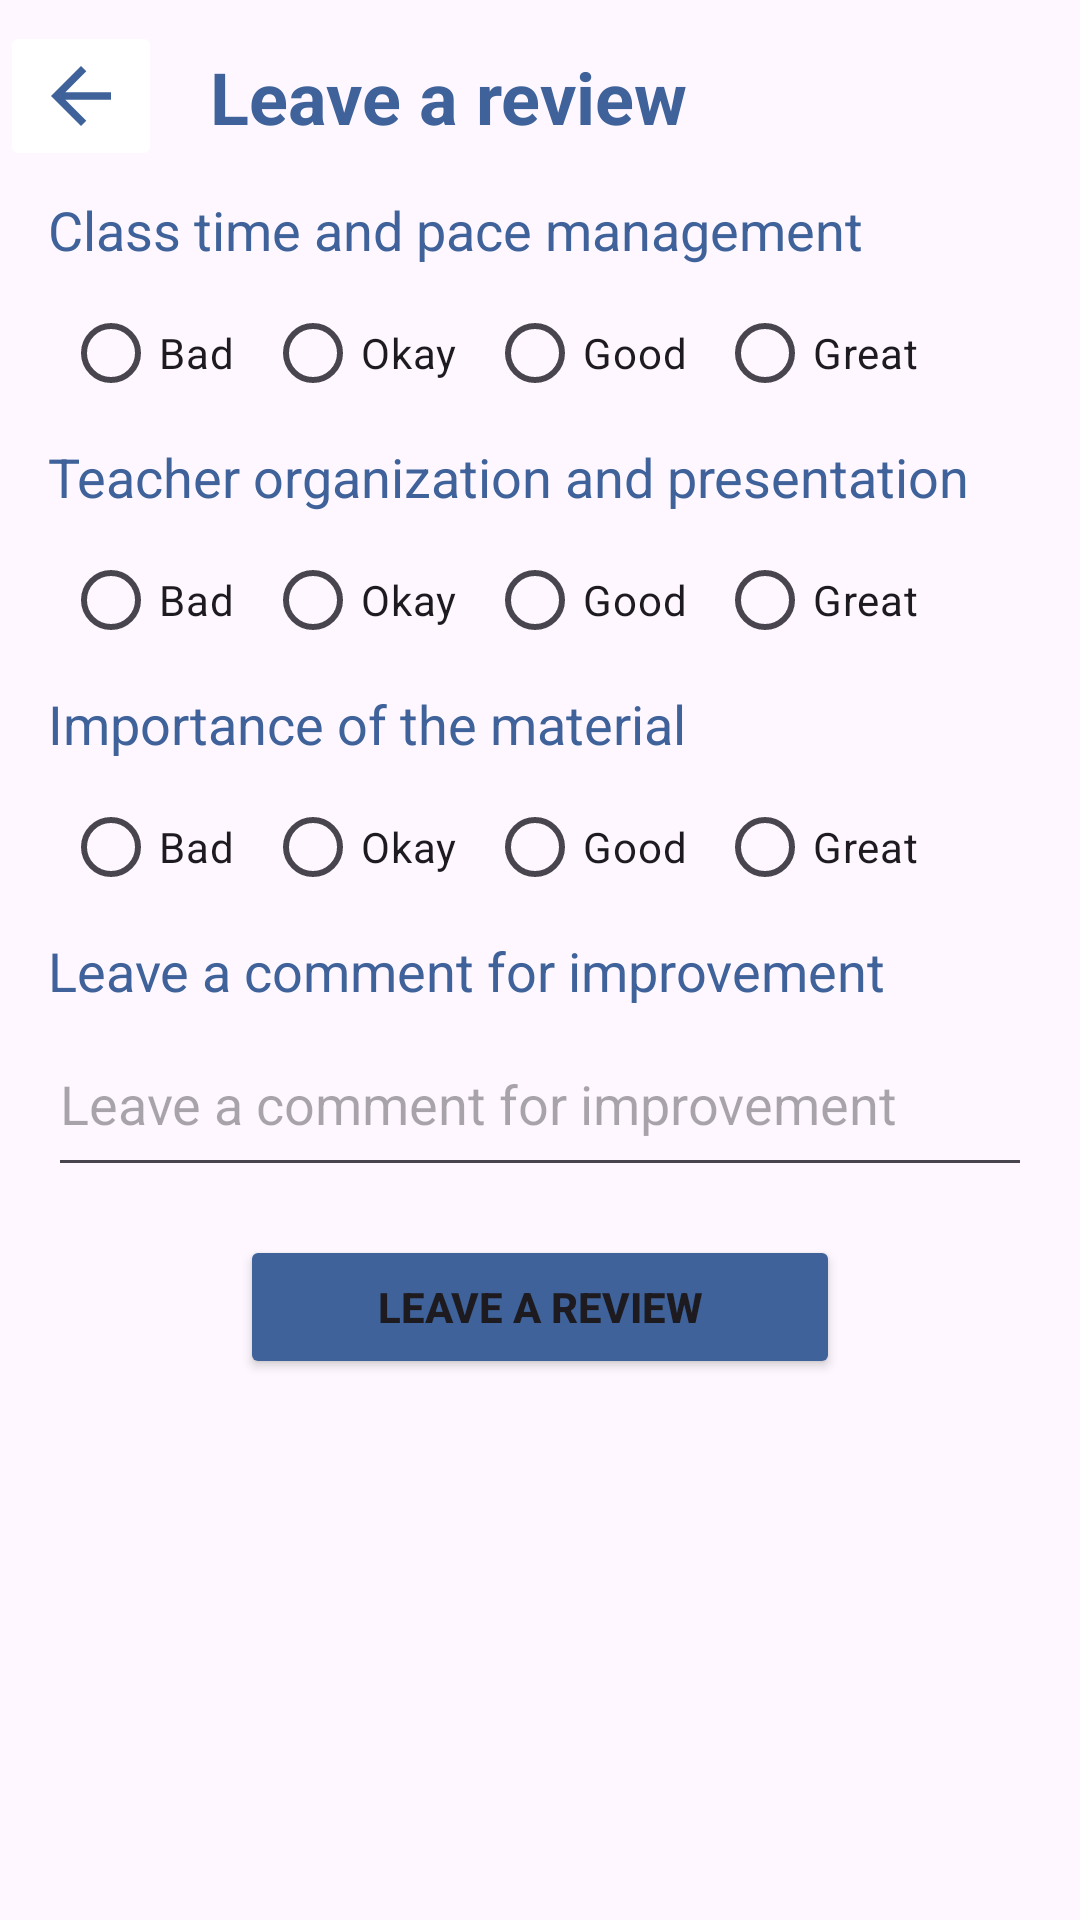

Locate icon controls on the screen. Image size 1080 x 1920, boxes as (x1, y1, x2, y2).
Back: (51, 66, 111, 126)
